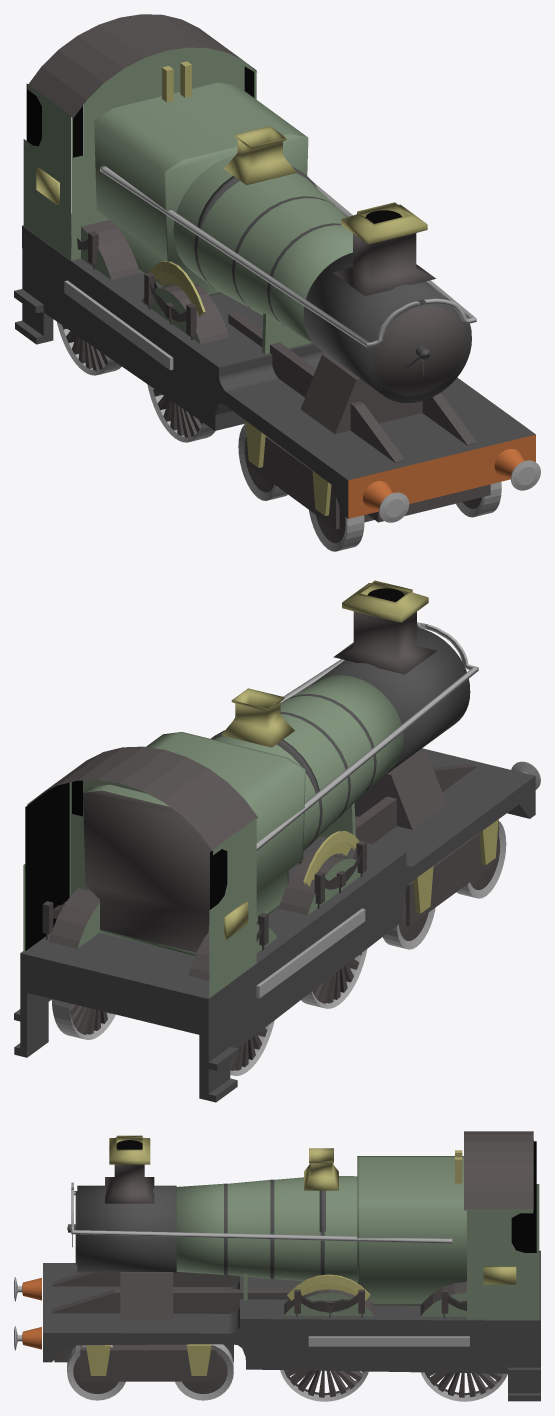
The model's file is gwr-bulldog.dae.
3 views of the same model, one above another, from view 1: azimuth 30°, elevation 25°; view 2: azimuth 150°, elevation 25°; view 3: azimuth 270°, elevation 25° (orthographic). The views are drawn at different scales.
Parts seen in each view (by area): view 1: Cube_003, Cube, Cylinder_008, Tube, Cylinder_013, Cylinder_010, Cube_001, Plane_002, Cube_007, Cube_004, Cylinder_001, Cube_020 (+15 smaller); view 2: Cube_003, Cube, Cylinder_008, Tube, Cylinder_013, Plane_005, Cube_001, Plane_002, Cylinder_001, Cube_004, Cube_005, Cube_020 (+12 smaller); view 3: Cube_003, Cylinder_008, Cube, Cylinder_013, Plane, Tube, Cube_007, Cube_005, Cube_001, Cube_004, Cylinder_001, Cube_020 (+13 smaller).
Boxes of the visible parts, left/top/right/bottom form: Cube_003: left=14, top=214, right=535, bottom=518; Cube: left=94, top=82, right=308, bottom=295; Cylinder_008: left=173, top=154, right=352, bottom=342; Tube: left=28, top=14, right=257, bottom=260; Cylinder_013: left=303, top=252, right=471, bottom=402; Cylinder_010: left=375, top=305, right=465, bottom=396; Cube_001: left=333, top=202, right=435, bottom=295; Plane_002: left=23, top=84, right=70, bottom=260; Cube_007: left=228, top=312, right=477, bottom=462; Cube_004: left=300, top=353, right=441, bottom=434; Cylinder_001: left=71, top=220, right=229, bottom=344; Cube_020: left=100, top=165, right=476, bottom=348; Cube_003: left=14, top=748, right=535, bottom=1102; Cube: left=83, top=732, right=305, bottom=955; Cylinder_008: left=214, top=675, right=403, bottom=851; Tube: left=28, top=746, right=258, bottom=895; Cylinder_013: left=312, top=627, right=470, bottom=774; Plane_005: left=25, top=782, right=69, bottom=950; Cube_001: left=333, top=580, right=436, bottom=674; Plane_002: left=209, top=818, right=256, bottom=997; Cylinder_001: left=48, top=852, right=366, bottom=980; Cube_004: left=354, top=748, right=446, bottom=829; Cube_005: left=405, top=820, right=498, bottom=926; Cube_020: left=256, top=622, right=478, bottom=850; Cube_003: left=43, top=1250, right=540, bottom=1401; Cylinder_008: left=176, top=1176, right=357, bottom=1282; Cube: left=357, top=1156, right=466, bottom=1305; Cylinder_013: left=77, top=1185, right=176, bottom=1272; Plane: left=467, top=1209, right=539, bottom=1319; Tube: left=464, top=1131, right=533, bottom=1210; Cube_007: left=52, top=1271, right=291, bottom=1313; Cube_005: left=80, top=1344, right=216, bottom=1381; Cube_001: left=105, top=1135, right=154, bottom=1203; Cube_004: left=120, top=1272, right=173, bottom=1319; Cylinder_001: left=284, top=1282, right=466, bottom=1316; Cube_020: left=71, top=1182, right=452, bottom=1243.
Bounding box in the file's own units: 1.88 × 5.54 × 2.68.
